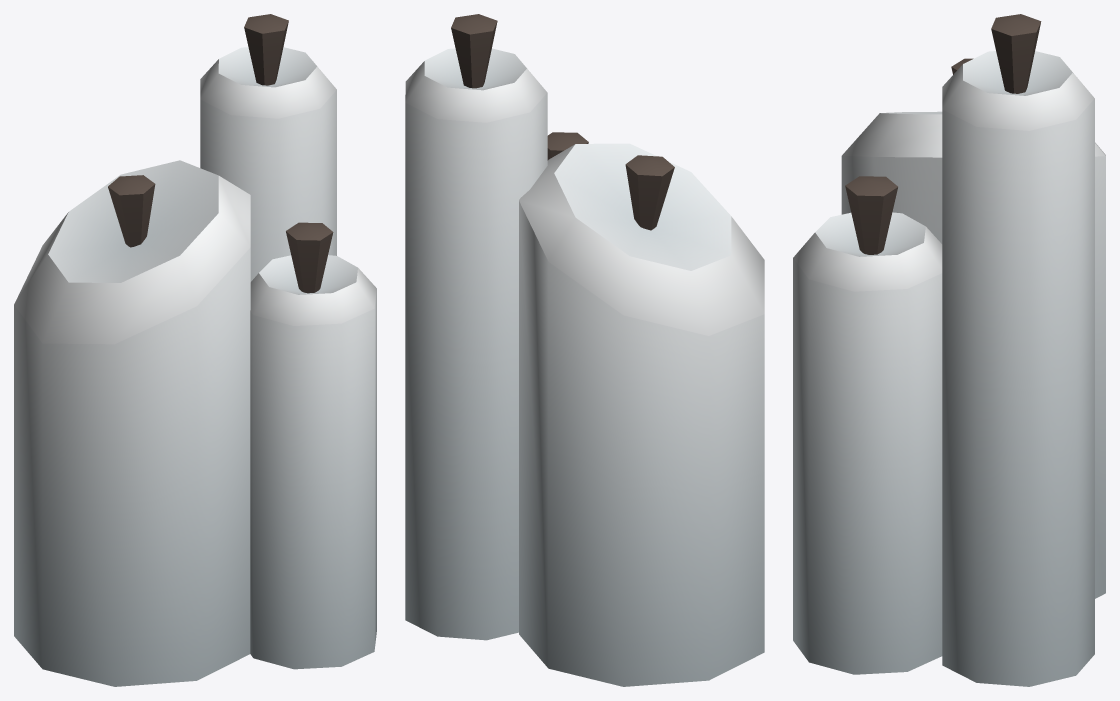
File: candle_triple.glb
3 renders of one model, left to right at view 1: azimuth 30°, elevation 25°; view 2: azimuth 150°, elevation 25°; view 3: azimuth 270°, elevation 25°, orthographic. The views are drawn at different scales.
Visible parts, largest first — view 1: candle_triple; view 2: candle_triple; view 3: candle_triple.
Part boxes in pixels (<box>): candle_triple: <box>14,14,376,686</box>; candle_triple: <box>405,14,764,686</box>; candle_triple: <box>793,14,1105,686</box>.
Bounding box in the file's own units: 0.4511 × 0.7857 × 0.3509.
Materials: 1 (1 with a texture image).
